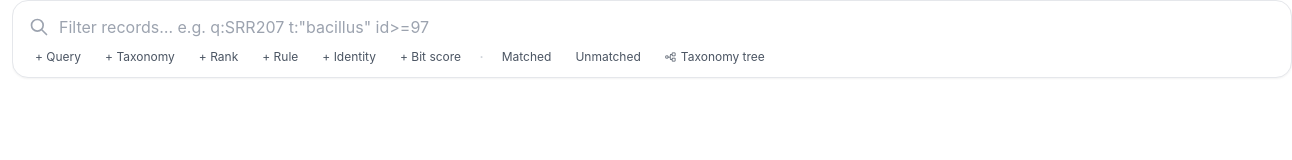
Test case: FilterBar › Enter parses the draft into chips and clears the box
Type "q:S2 t:\"bacillus subtilis group\" bits>800" into the dropdown labelled "Filter records" at (666, 27), box top-left (57, 13), bottom-right (1275, 41)
Then press Enter
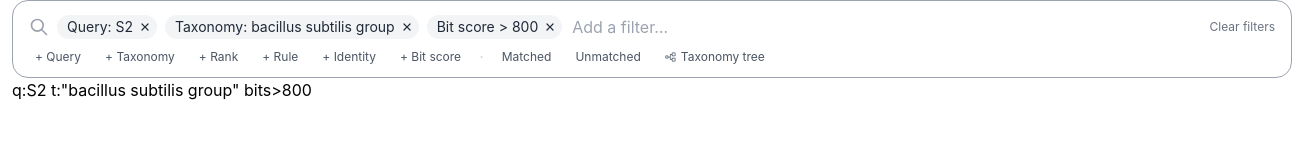
expect the dropdown named "Filter records" is empty: met, box top-left (570, 13), bottom-right (1202, 41)
expect the text with test id "serialized" reads "q:S2 t:\"bacillus subtilis group\" bits>800": met, box top-left (12, 80), bottom-right (312, 100)
